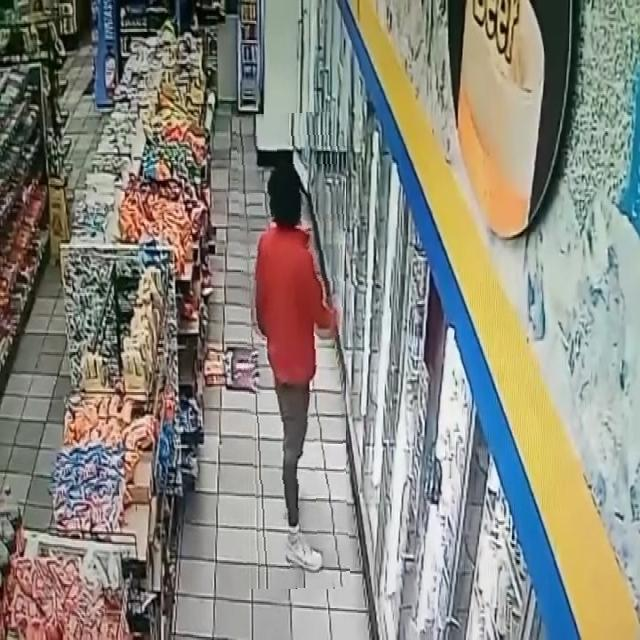normal: (241, 112, 347, 589)
